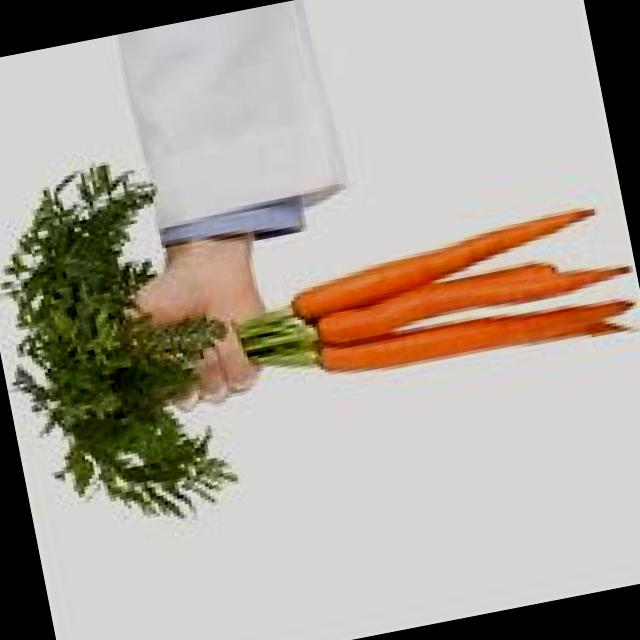carrot: (285, 198, 604, 320), (316, 255, 639, 345), (322, 290, 636, 379)
